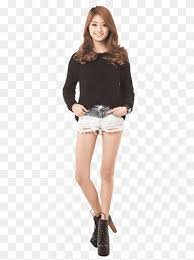person: (62, 2, 140, 260)
